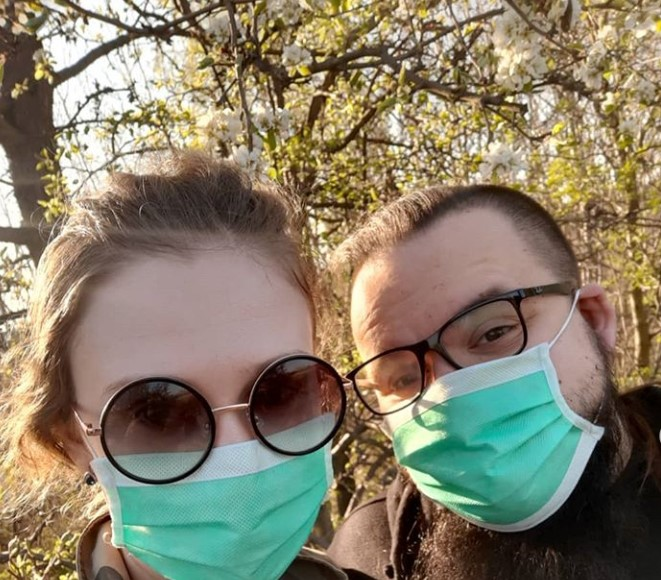face_with_mask: (58, 218, 340, 575), (346, 184, 613, 531)
